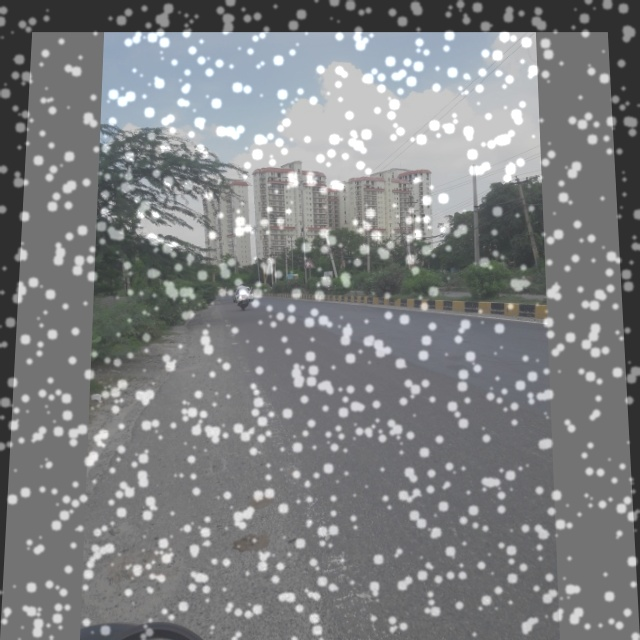Gap_in_Median: (302, 256, 316, 270)
